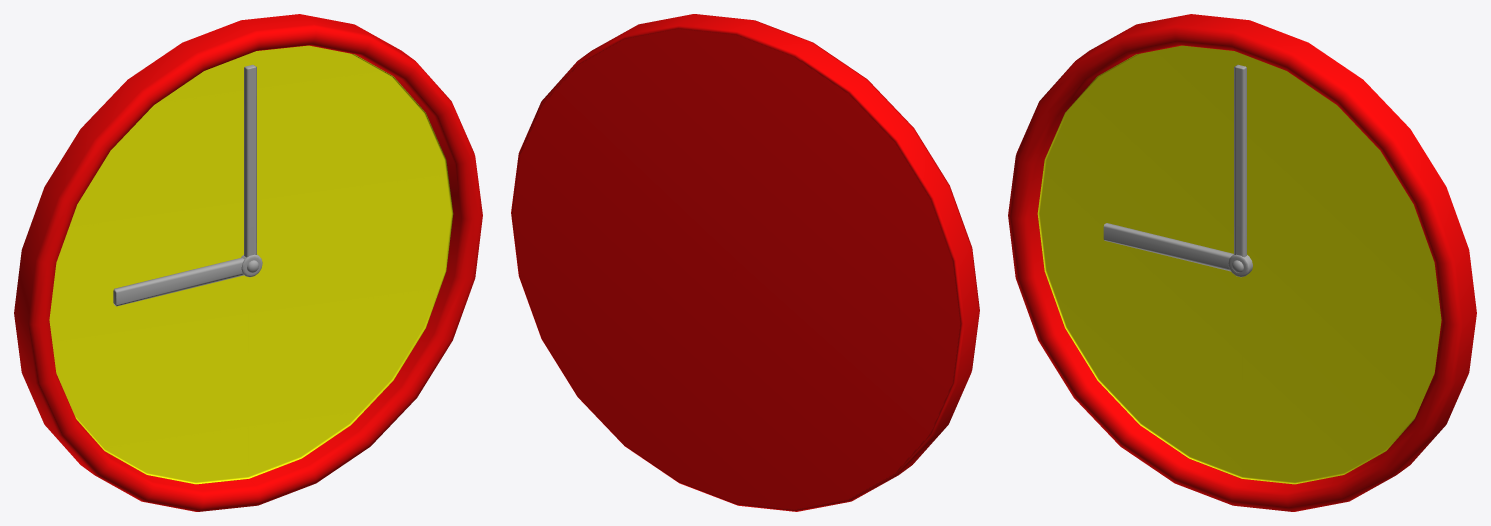
File: SM_Clock.fbx
The picture shows the model from 3 angles, left to right: view 1: azimuth 30°, elevation 25°; view 2: azimuth 150°, elevation 25°; view 3: azimuth 330°, elevation 25°; orthographic projection.
Visible parts, largest first — view 1: clock, minutehand, hourhand; view 2: clock; view 3: clock, minutehand, hourhand.
Boxes of the visible parts, x1,y1,x2,y2 form: clock: (14,14,482,511); minutehand: (244,64,256,257); hourhand: (113,257,244,306); clock: (511,14,979,511); clock: (1008,14,1476,511); minutehand: (1234,64,1246,257); hourhand: (1103,223,1233,271).
Bounding box in the file's own units: 2 × 2 × 0.1681.
Materials: 2 (1 with a texture image).
